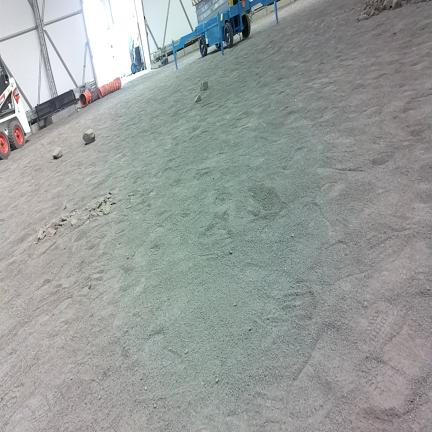Rock: (83, 129, 95, 144), (53, 147, 62, 159), (38, 228, 45, 242), (383, 0, 392, 10), (48, 221, 59, 229), (392, 0, 401, 9), (46, 228, 56, 236), (200, 81, 208, 90), (97, 198, 104, 208), (358, 13, 367, 20), (60, 215, 68, 222), (103, 206, 110, 214), (71, 218, 77, 226), (195, 95, 201, 102), (97, 210, 103, 216), (86, 213, 92, 219), (109, 201, 116, 205), (88, 283, 91, 289), (128, 193, 134, 196), (108, 192, 112, 196), (144, 386, 147, 391), (126, 205, 131, 208), (132, 252, 135, 257), (291, 234, 294, 238), (248, 327, 251, 331), (64, 204, 66, 210), (185, 350, 188, 354), (216, 378, 218, 383), (154, 403, 156, 408), (233, 303, 236, 306), (99, 395, 101, 399), (230, 251, 232, 254)
